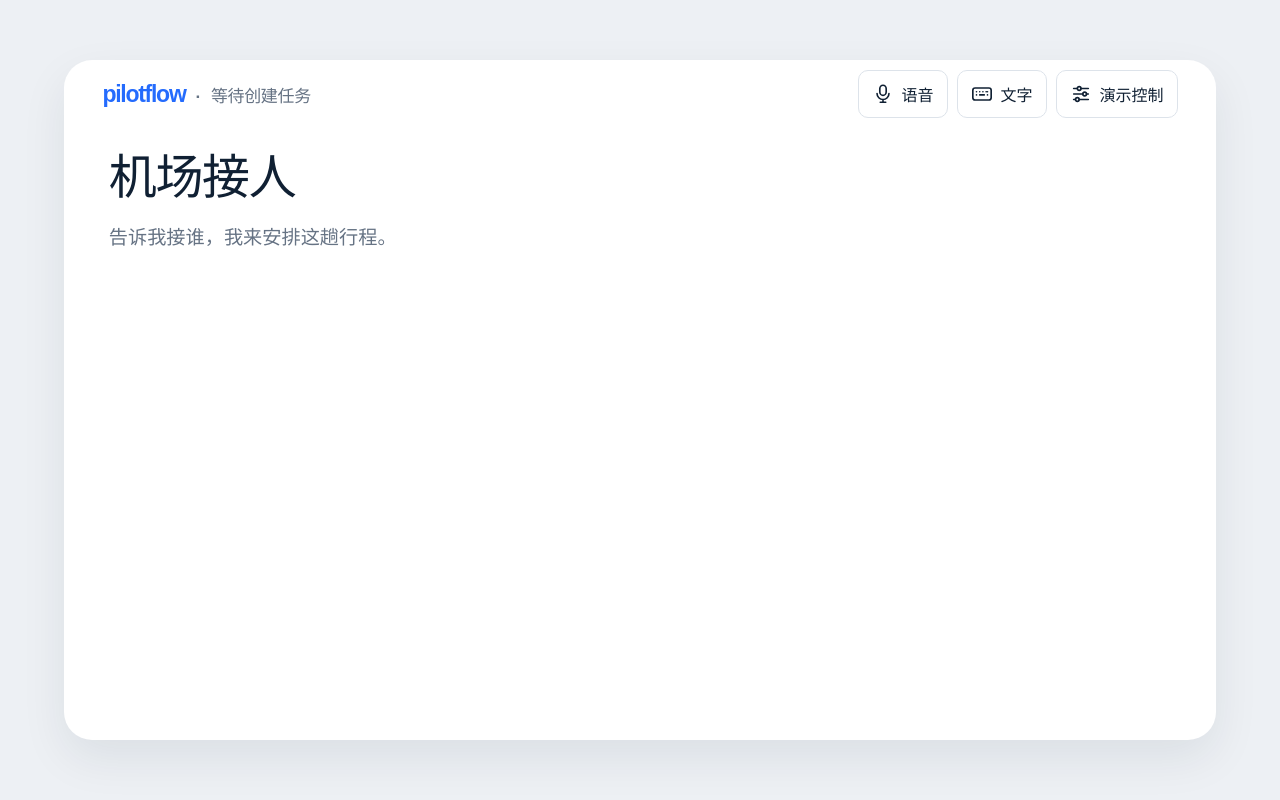
Scenario: demo integration › voice input › reports an empty recognition result instead of submitting nothing
Click the button with aria-label "开始语音输入". click: point(903, 94)
box: x1=858 y1=70 x2=948 y2=118
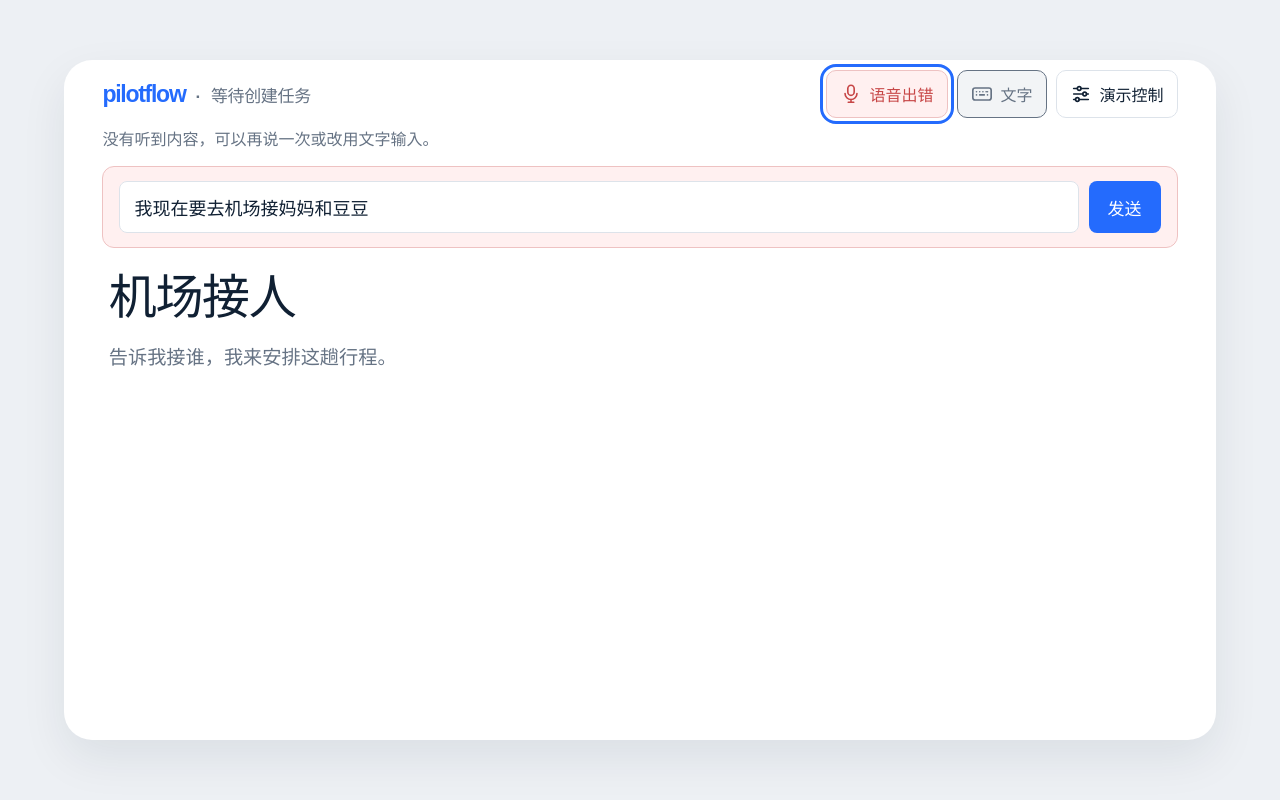
Check: the message named "语音状态" shows "没有听到内容", box x1=102 y1=131 x2=438 y2=148
